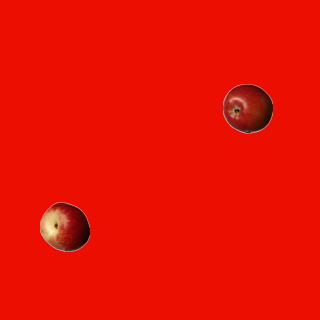Apple Braeburn: (222, 83, 272, 133)
Nectarine: (39, 201, 89, 251)
